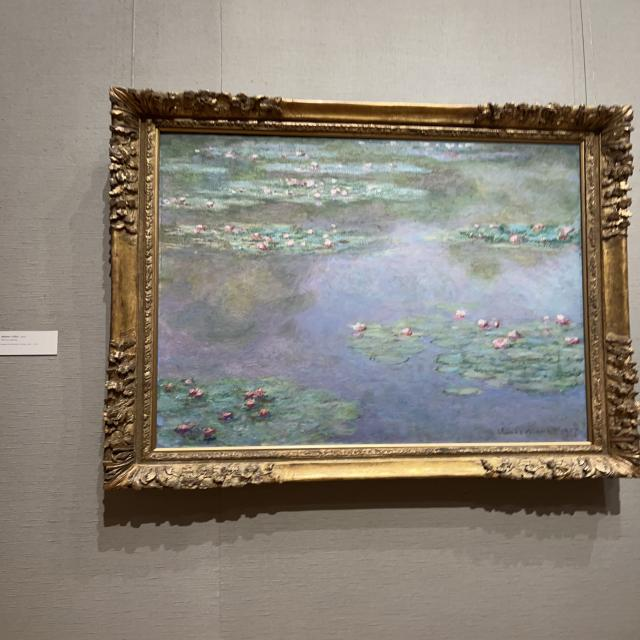lilies: (159, 132, 588, 446)
